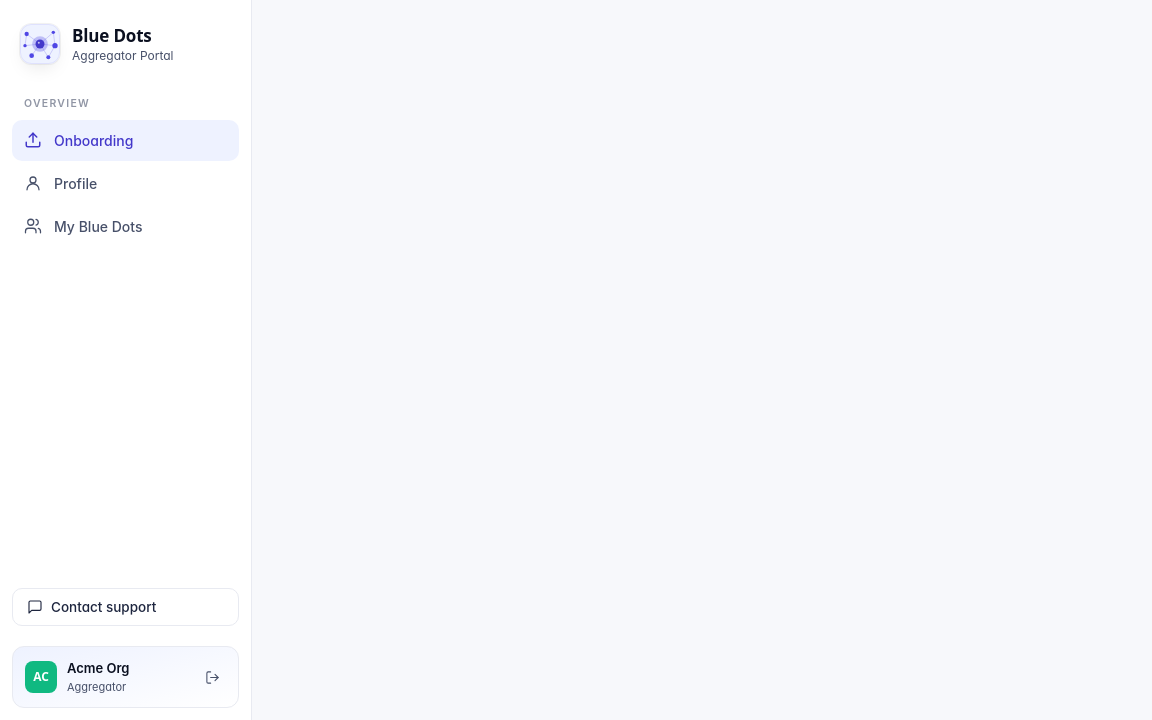
Scenario: <Sidebar /> › shows the Contact support entry and opens the dialog when supportEnabled is true
The image size is (1152, 720).
What coordinates should you click on to do the following:
click the button "Contact support"
I would click on:
 (126, 607)
Its box is left=12, top=588, right=239, bottom=626.
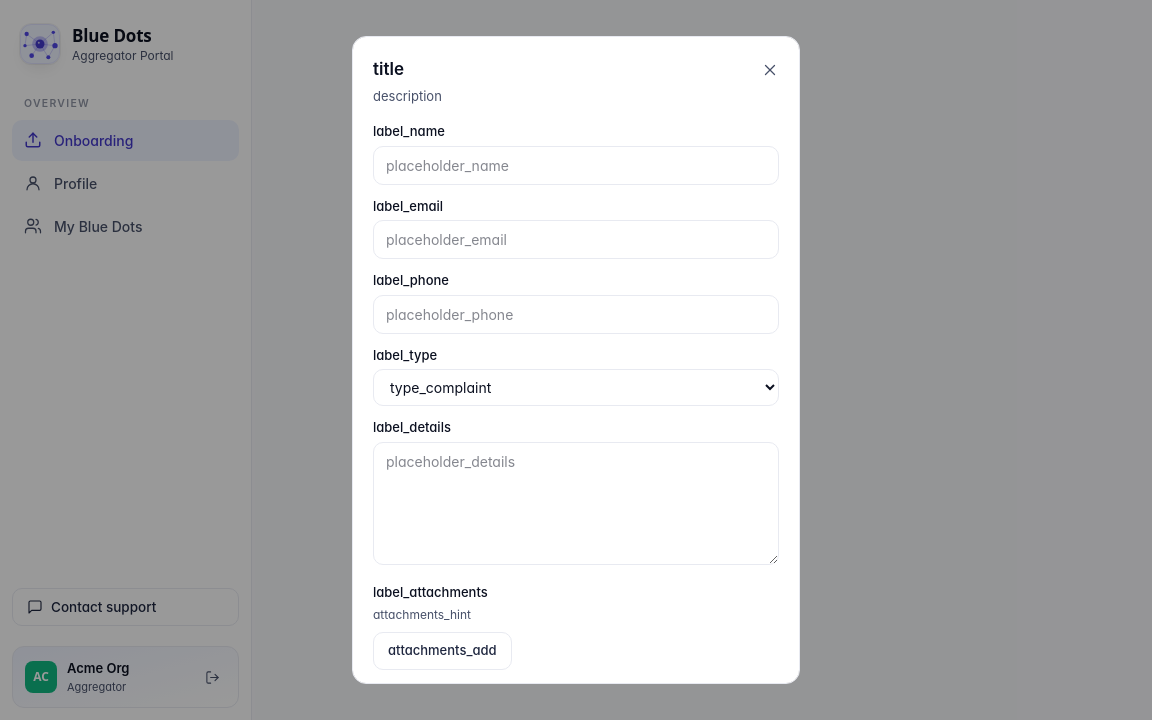
Expected: the dialog is shown
